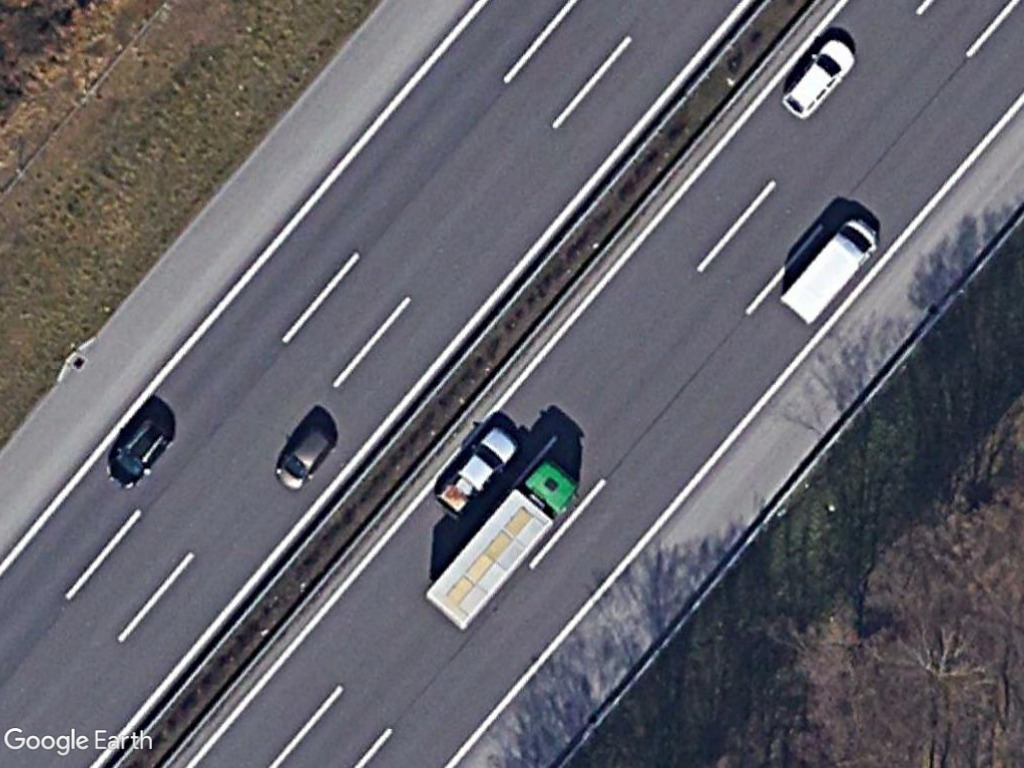car: (780, 36, 858, 118), (273, 423, 339, 491)
others: (434, 422, 522, 513)
truck: (424, 460, 580, 631)
van: (777, 218, 882, 326)
